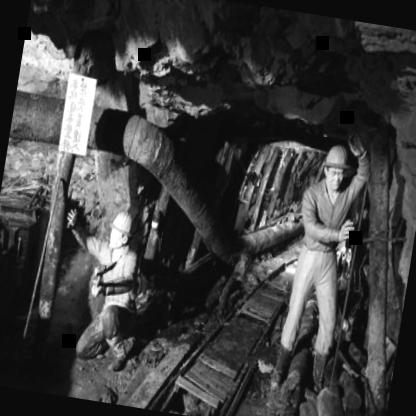helmet: (318, 137, 357, 196), (107, 206, 136, 255)
